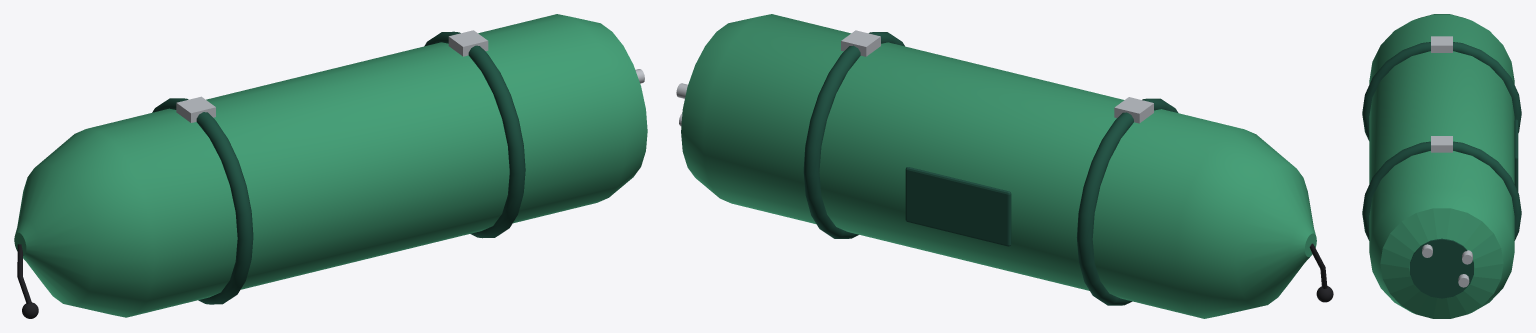
File: tent.fbx
The picture shows the model from 3 angles, left to right: view 1: azimuth 30°, elevation 25°; view 2: azimuth 150°, elevation 25°; view 3: azimuth 270°, elevation 25°; orthographic projection. The views are drawn at different scales.
Parts seen in each view (by area): view 1: Tent Bag; view 2: Tent Bag; view 3: Tent Bag.
Boxes of the visible parts, x1,y1,x2,y2 form: Tent Bag: [14, 14, 647, 318]; Tent Bag: [676, 14, 1333, 318]; Tent Bag: [1362, 14, 1521, 318].
Size of the model in its own units: 2.97 by 0.88 by 0.88.
